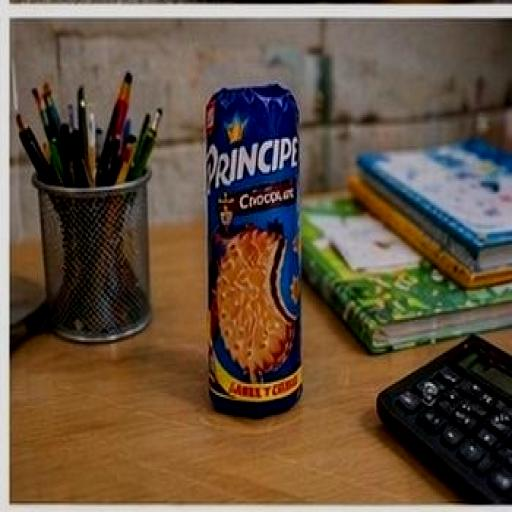prince: (154, 72, 382, 436)
